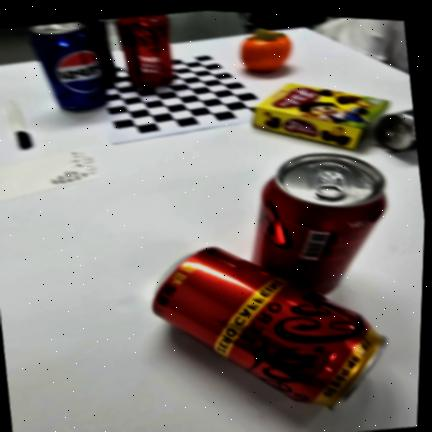can_coke_decaf: (153, 247, 382, 407)
can_coke_zero: (254, 153, 385, 292), (117, 14, 172, 88)
can_pepsi: (29, 21, 105, 111)
